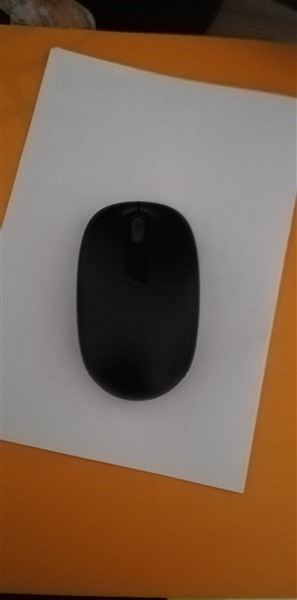mouse: (72, 195, 206, 407)
